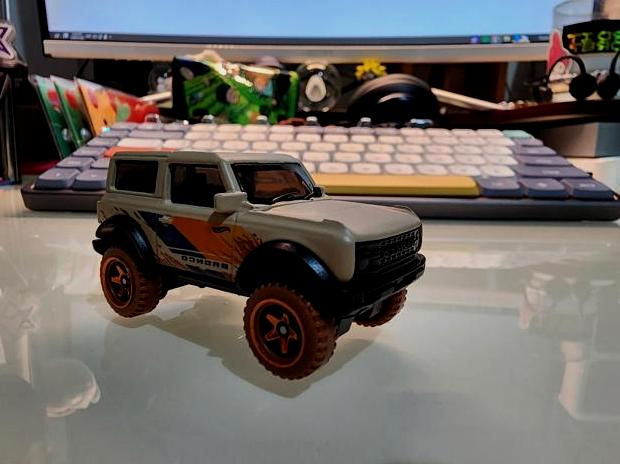toy-car: (91, 150, 427, 381)
